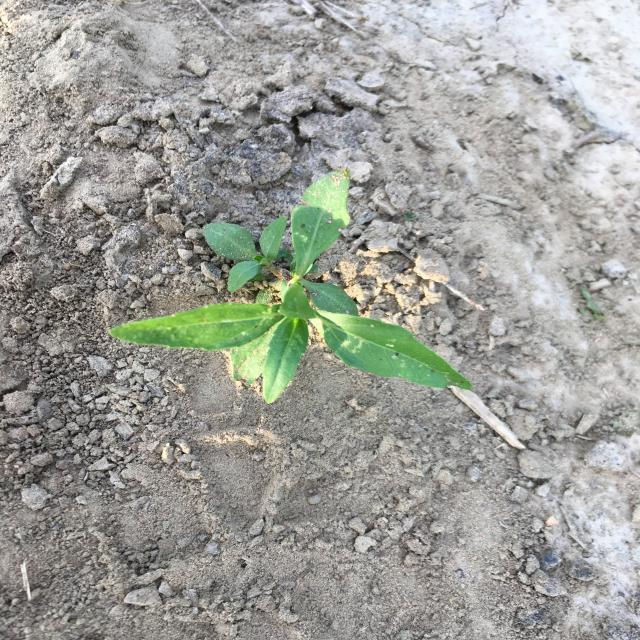Eclipta: (109, 168, 473, 404)
